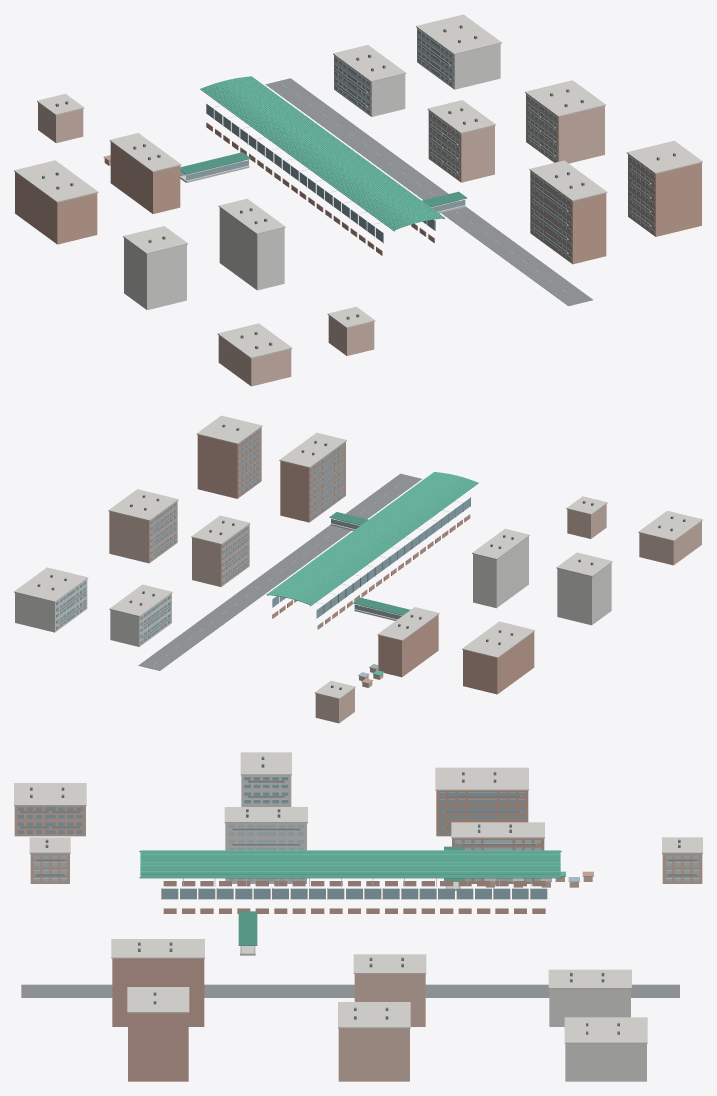
3 views of the same model, one above another, from view 1: azimuth 30°, elevation 25°; view 2: azimuth 150°, elevation 25°; view 3: azimuth 270°, elevation 25° (orthographic). The views are drawn at different scales.
Visible parts, largest first — view 1: Station 6 photo-informed architecture and surroundings; view 2: Station 6 photo-informed architecture and surroundings; view 3: Station 6 photo-informed architecture and surroundings.
Boxes of the visible parts, x1,y1,x2,y2 form: Station 6 photo-informed architecture and surroundings: (14, 14, 702, 386); Station 6 photo-informed architecture and surroundings: (14, 415, 702, 723); Station 6 photo-informed architecture and surroundings: (14, 752, 702, 1081).
Bounding box in the file's own units: 240 × 30.69 × 262.
